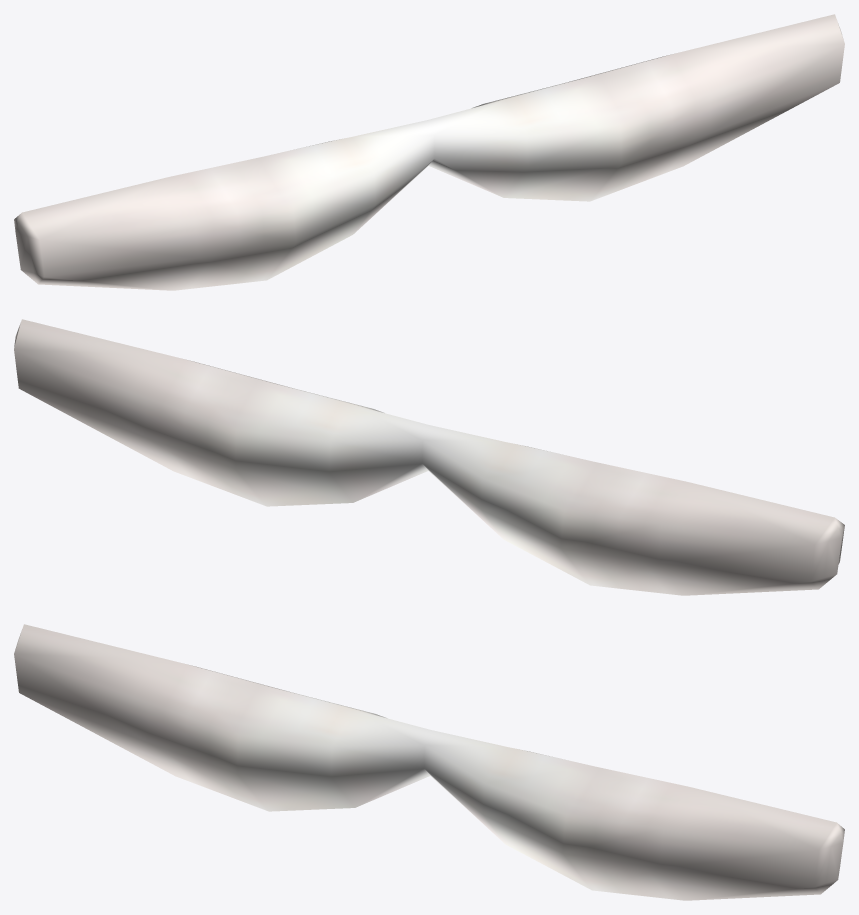
The model's file is A_HA_GEN_Ship_Sail_01.fbx.
3 views of the same model, one above another, from view 1: azimuth 30°, elevation 25°; view 2: azimuth 150°, elevation 25°; view 3: azimuth 330°, elevation 25° (orthographic).
Visible parts, largest first — view 1: A_HA_Gen_Ship_Sail_01; view 2: A_HA_Gen_Ship_Sail_01; view 3: A_HA_Gen_Ship_Sail_01.
Boxes of the visible parts, x1=… form: A_HA_Gen_Ship_Sail_01: x1=14, y1=14, x2=844, y2=290; A_HA_Gen_Ship_Sail_01: x1=14, y1=319, x2=844, y2=595; A_HA_Gen_Ship_Sail_01: x1=14, y1=624, x2=844, y2=900.
Bounding box in the file's own units: 1419 × 210 × 180.
Materials: 1 (1 with a texture image).
